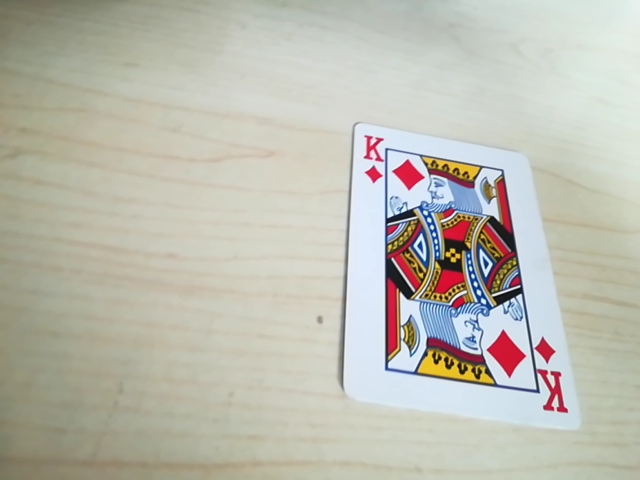fk k: (357, 128, 397, 189), (536, 355, 569, 424)
